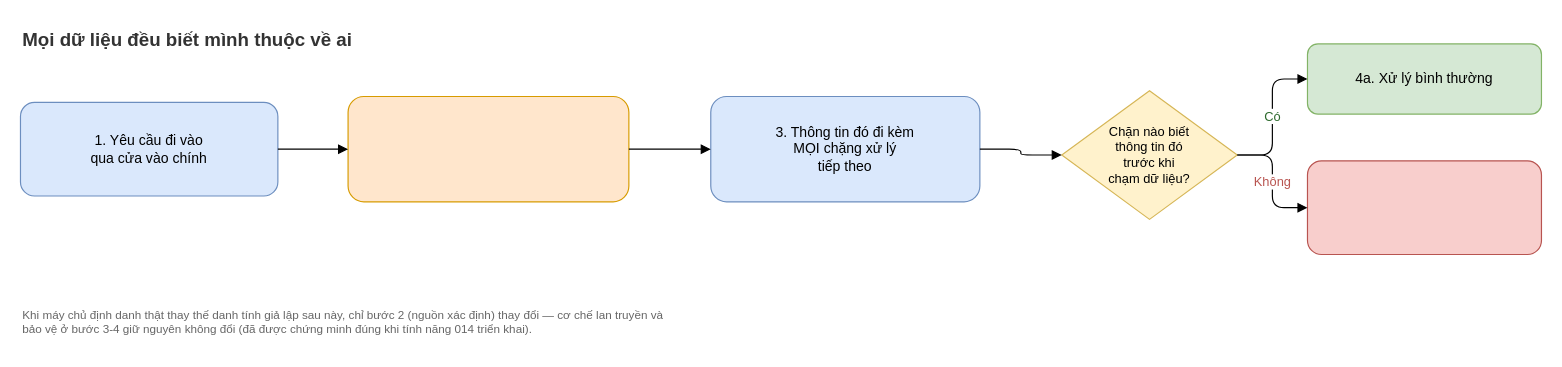
Some shapes in this 1562 by 367 pixel diagram are drawn without their labels. The shapes that lost their labels are listed below. From the top down, each one's box as (x1, y1, x2, y2) in pixels, then its label:
(347, 95, 629, 202): 2. Xác định "thuộc khách hàng doanh nghiệp nào" ĐÚNG MỘT LẦN
(1306, 160, 1541, 254): 4b. Chặn NGAY — không có "khách hàng mặc định"
